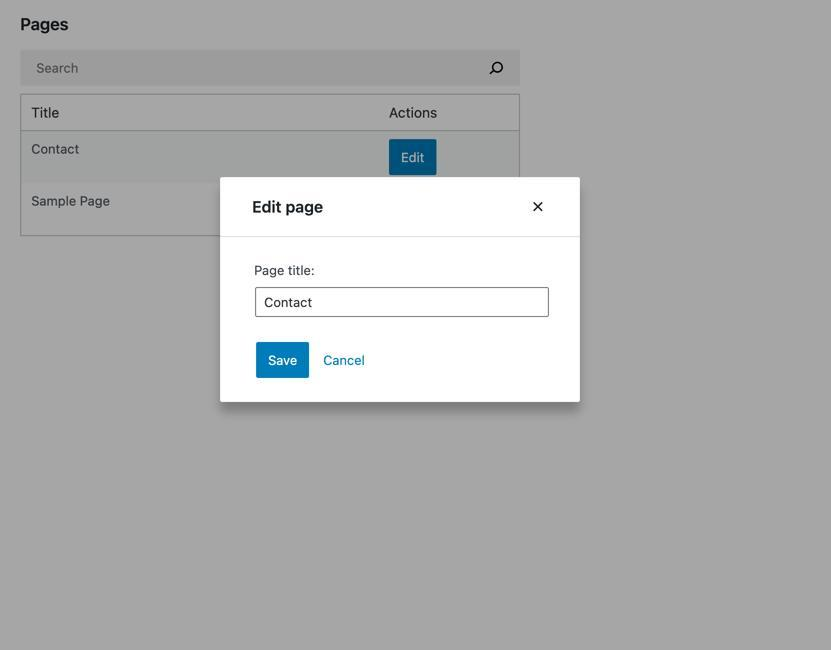button: (391, 137, 440, 178), (257, 344, 312, 379), (321, 347, 371, 378)
icon: (529, 196, 551, 218)
input: (24, 51, 522, 85), (255, 287, 549, 317)
label: (32, 193, 113, 214), (252, 199, 327, 219), (254, 262, 316, 282), (28, 143, 86, 161)
